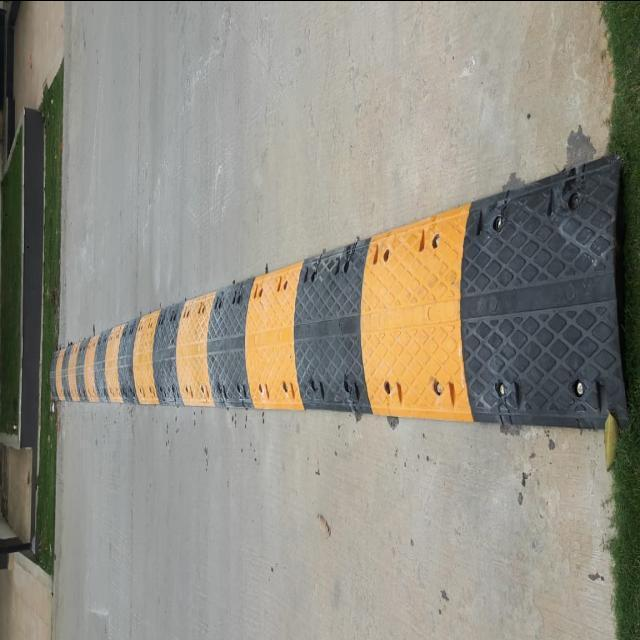Speed_Breaker: (48, 156, 640, 492), (56, 156, 624, 427)
